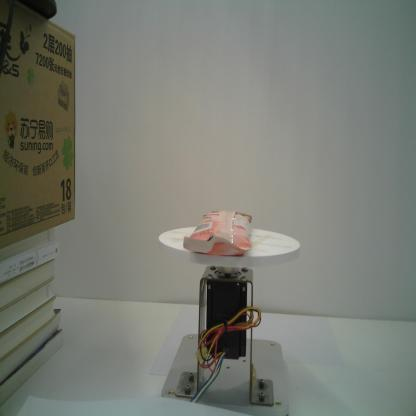Dessert: (180, 207, 256, 258)
